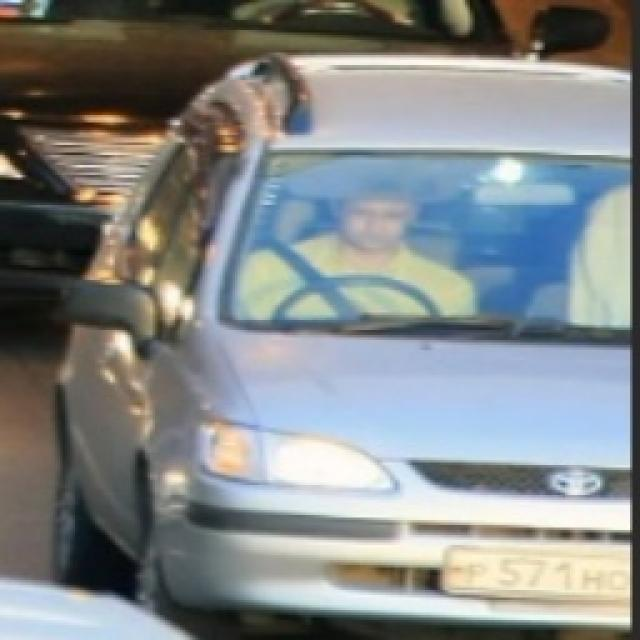windshield: (222, 138, 628, 352)
